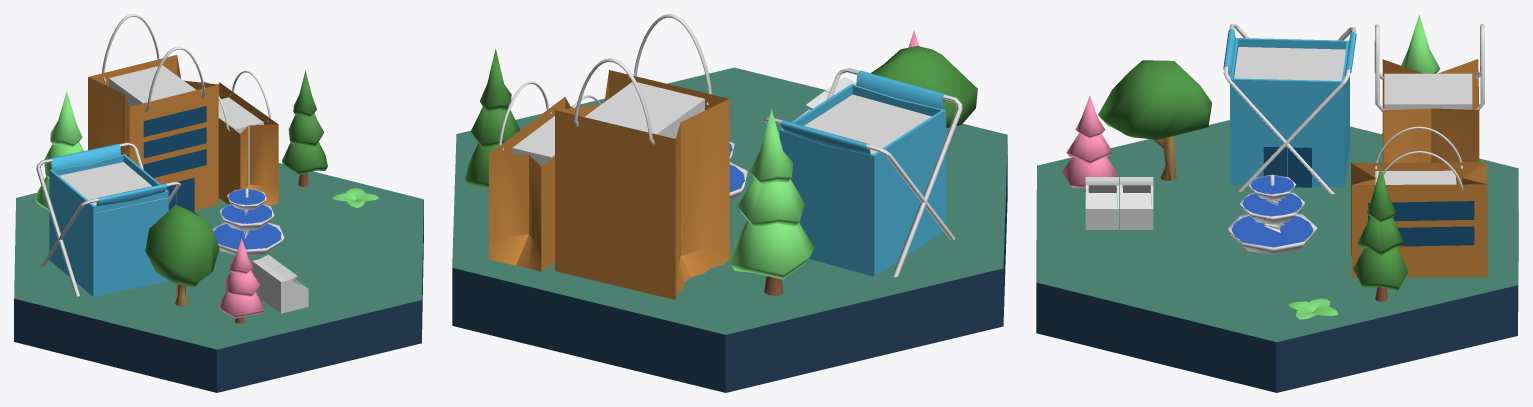
Rendered from Macro - Shop lvl 2 WM1.fbx.
3 renders of one model, left to right at view 1: azimuth 30°, elevation 25°; view 2: azimuth 150°, elevation 25°; view 3: azimuth 270°, elevation 25°, orthographic. The views are drawn at different scales.
Parts seen in each view (by area): view 1: Cylinder.179, bathroom_item_001.001, Circle.006, Circle.005, tree1 v:88 f:56, Cube.018, Tree_Spruce_tiny_01.007, Plane.122, Tree_Spruce_tiny_01.001, Cube.138, Tree_Spruce_tiny_01.005, Cube.002 (+7 smaller); view 2: Cylinder.179, Circle.006, bathroom_item_001.001, Circle.005, Tree_Spruce_tiny_01.005, Cube.138, Plane.122, tree1 v:88 f:56, Tree_Spruce_tiny_01.007, Cube.139, Cube.018; view 3: Cylinder.179, bathroom_item_001.001, Circle.005, tree1 v:88 f:56, Circle.006, Cube.018, Tree_Spruce_tiny_01.007, Plane.122, Cube.138, Tree_Spruce_tiny_01.001, Cube.002, Cube.004 (+7 smaller).
Part boxes in pixels (x1,y1,x2,y2): Cylinder.179: (14, 163, 423, 392); bathroom_item_001.001: (36, 142, 180, 296); Circle.006: (88, 14, 218, 210); Circle.005: (200, 71, 278, 205); tree1 v:88 f:56: (145, 204, 219, 306); Cube.018: (212, 188, 284, 256); Tree_Spruce_tiny_01.007: (282, 70, 327, 186); Plane.122: (59, 162, 166, 213); Tree_Spruce_tiny_01.001: (218, 238, 264, 323); Cube.138: (108, 65, 195, 106); Tree_Spruce_tiny_01.005: (34, 91, 83, 210); Cube.002: (266, 265, 308, 313); Cylinder.179: (452, 67, 1007, 392); Circle.006: (555, 14, 729, 299); bathroom_item_001.001: (764, 68, 962, 277); Circle.005: (489, 81, 600, 271); Tree_Spruce_tiny_01.005: (730, 109, 814, 295); Cube.138: (584, 82, 704, 138); Plane.122: (804, 94, 931, 153); tree1 v:88 f:56: (871, 46, 977, 127); Tree_Spruce_tiny_01.007: (465, 49, 520, 187); Cube.139: (512, 116, 554, 165); Cube.018: (729, 141, 747, 200); Cylinder.179: (1036, 120, 1518, 392); bathroom_item_001.001: (1223, 24, 1356, 194); Circle.005: (1351, 126, 1487, 277); tree1 v:88 f:56: (1098, 60, 1211, 180); Circle.006: (1374, 24, 1484, 162); Cube.018: (1227, 174, 1316, 254); Tree_Spruce_tiny_01.007: (1353, 166, 1408, 301); Plane.122: (1229, 47, 1345, 86); Cube.138: (1384, 73, 1472, 110); Tree_Spruce_tiny_01.001: (1062, 95, 1117, 192); Cube.002: (1085, 177, 1119, 229); Cube.004: (1120, 177, 1153, 229).
Size of the model in its own units: 197 by 98.68 by 172.
